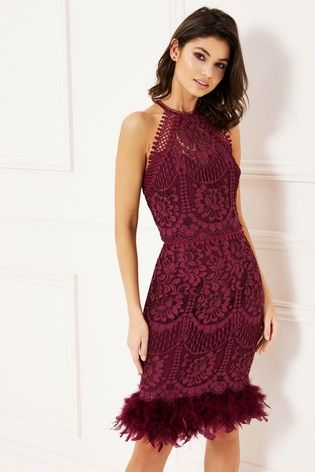C_dress: (101, 100, 277, 436)
